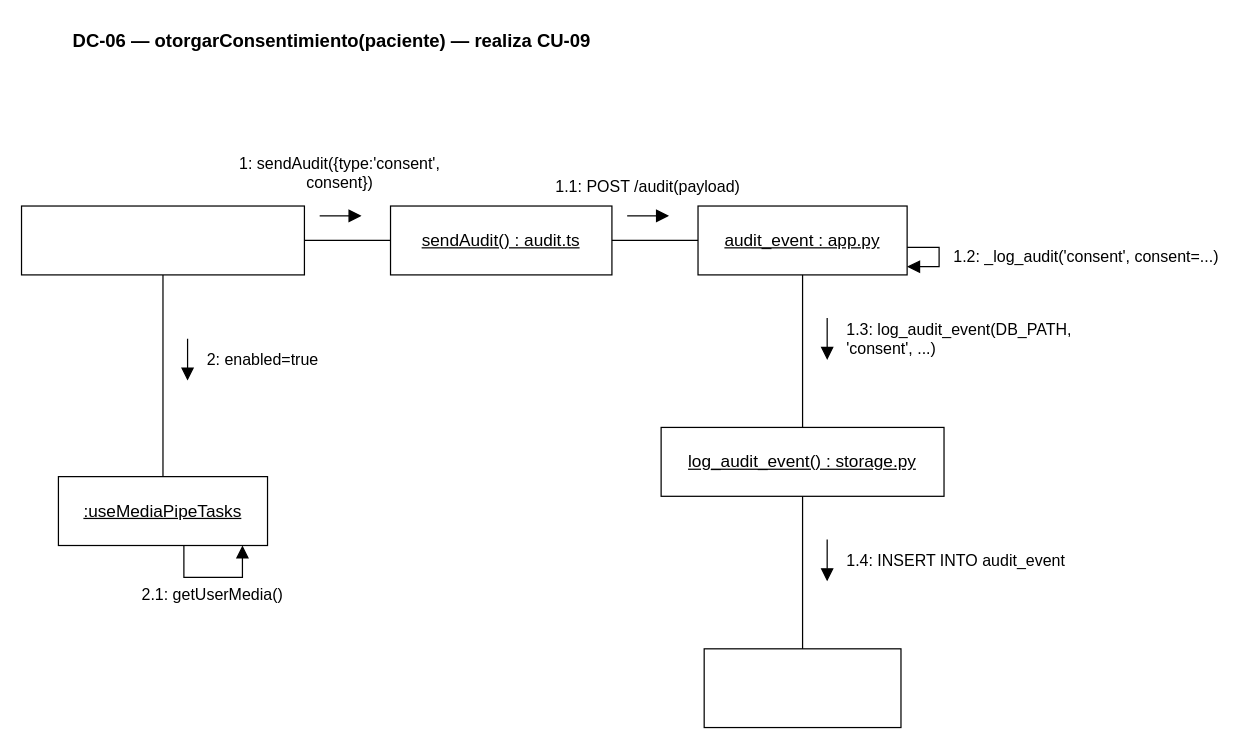
The diagram is 1256 pixels wide and 749 high, and some of its shapes have lost their labels. The shapes that lost their labels are listed below. From the top down, each one's box as (x1, y1, x2, y2) in pixels, then its label:
(20, 205, 304, 275): PacientePage (diálogo de consentimiento)
(703, 648, 901, 728): data/lsa_salud.db (audit_event)
